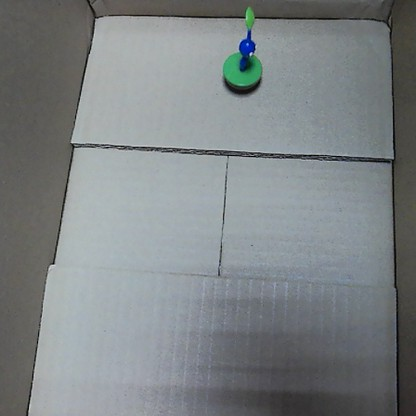leafairy: (219, 3, 262, 96)
